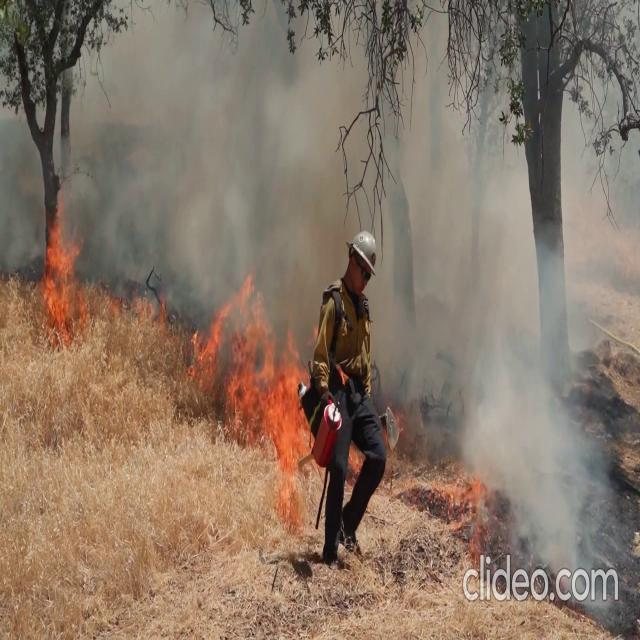Fire: (6, 197, 164, 332), (192, 282, 310, 462), (36, 188, 85, 324)
Smoke: (378, 41, 636, 584), (2, 20, 334, 305)
